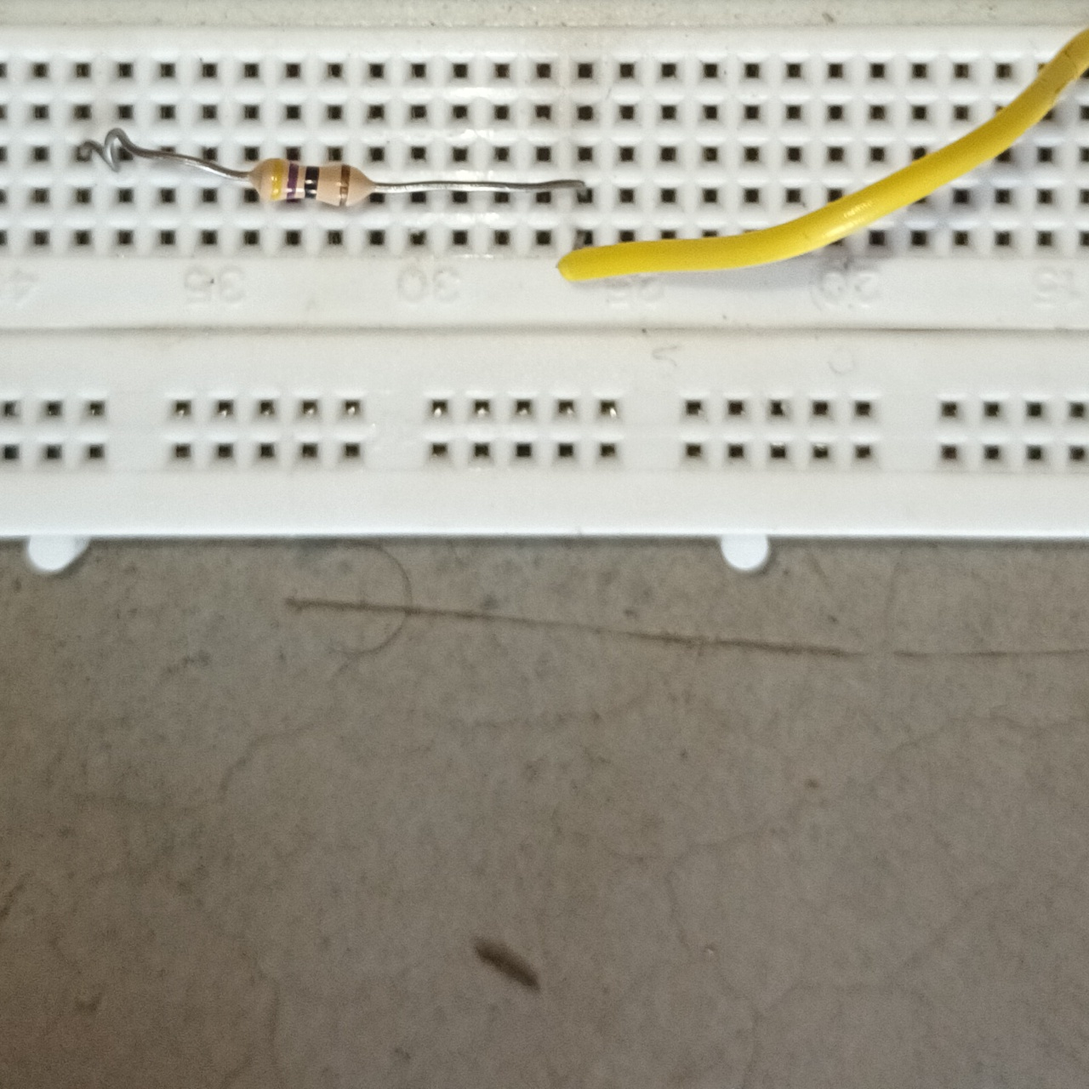resistor: (242, 157, 376, 214)
